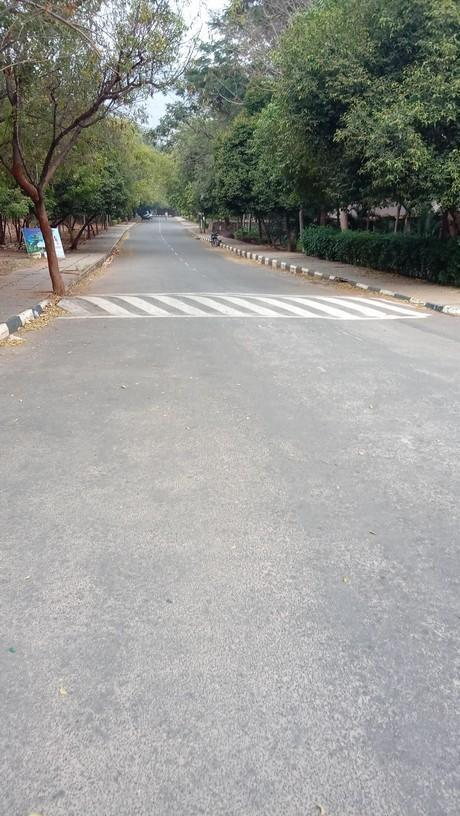speedbreaker: (34, 294, 432, 322)
